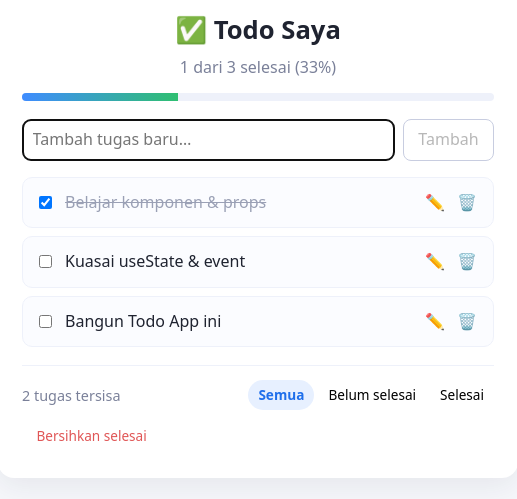
it: Todo App — menghapus › menghapus satu tugas membuang barisnya dan mengurangi total
The width and height of the screenshot is (517, 499).
Click the button named "hapus" at (467, 202), box [453,188,481,217]
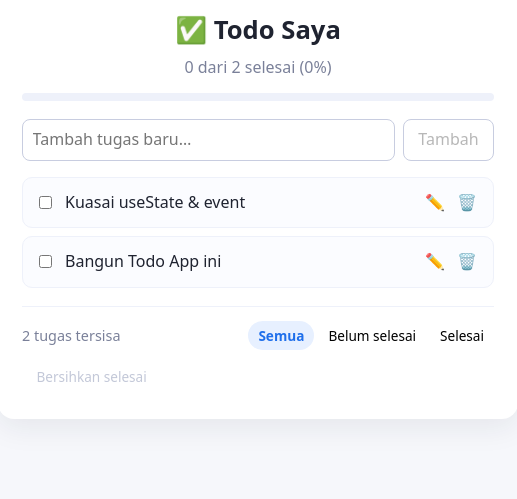
Expected: the number of list items is 2, [22,176,494,228]; [22,236,494,288]
Expected: the text "0 dari 2 selesai (0%)" is shown, [184,56,332,78]
